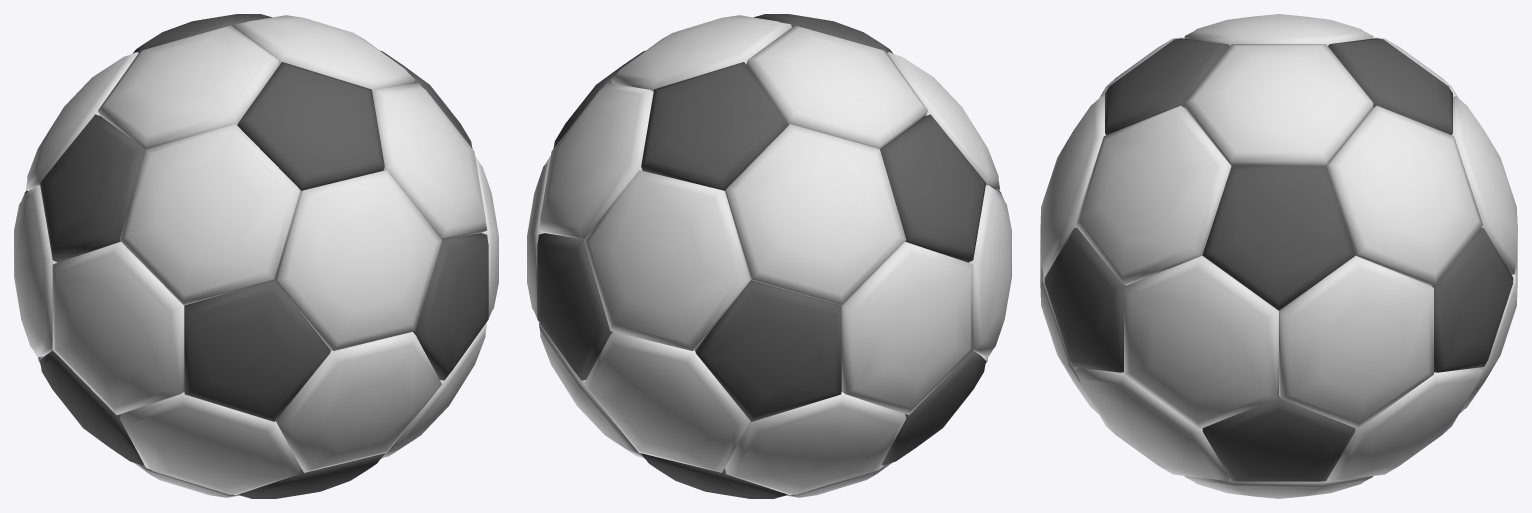
Rendered from SoccerBall.FBX.
3 views of the same model, side by side, from view 1: azimuth 30°, elevation 25°; view 2: azimuth 150°, elevation 25°; view 3: azimuth 270°, elevation 25° (orthographic).
Visible parts, largest first — view 1: soccerBall; view 2: soccerBall; view 3: soccerBall.
Part boxes in pixels (x1,y1,x2,y2): soccerBall: [14, 14, 498, 498]; soccerBall: [527, 14, 1011, 498]; soccerBall: [1040, 14, 1517, 498].
Size of the model in its own units: 96.24 by 96.24 by 96.24.
1 material, 1 textured.
